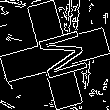M_W: (24, 26, 86, 84)
